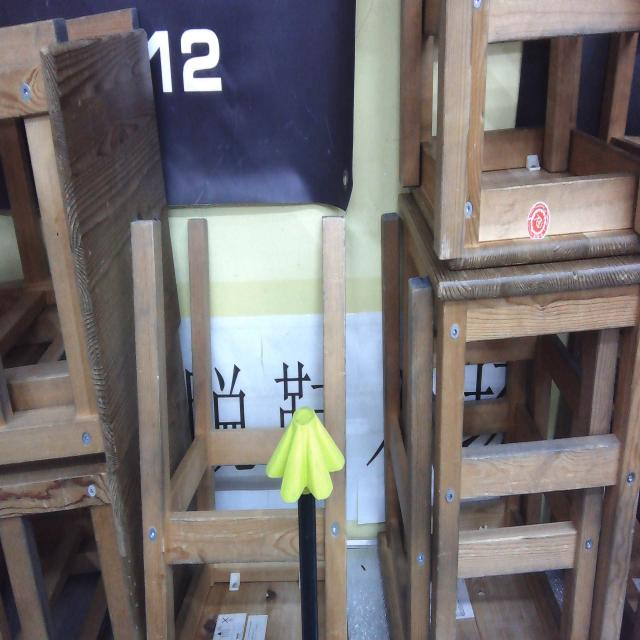Yellow-Stake-Head: (266, 406, 345, 504)
